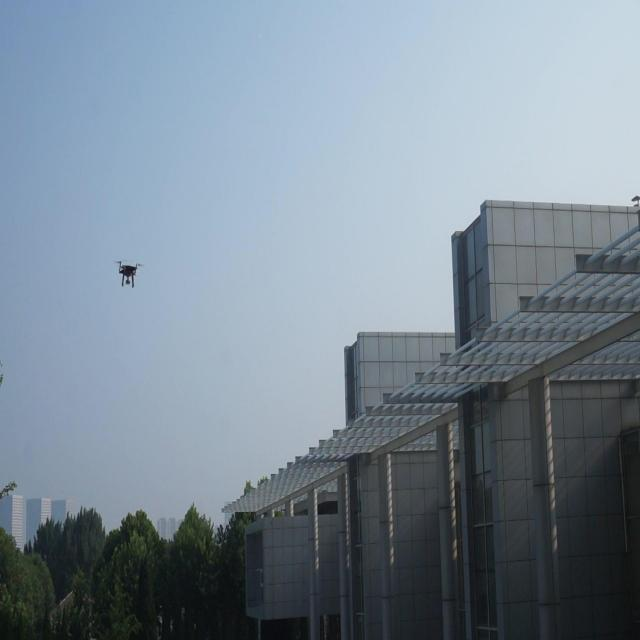UAV: (114, 260, 144, 288)
